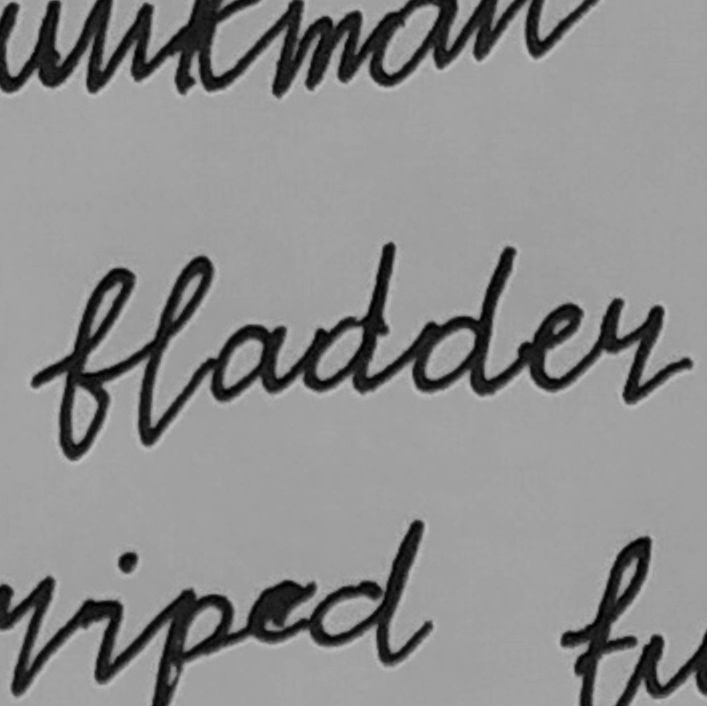a: (207, 316, 290, 408)
b: (52, 264, 139, 464)
d: (406, 239, 520, 402), (291, 237, 399, 397)
e: (522, 295, 588, 397)
l: (135, 248, 218, 450)
r: (589, 293, 694, 407)
